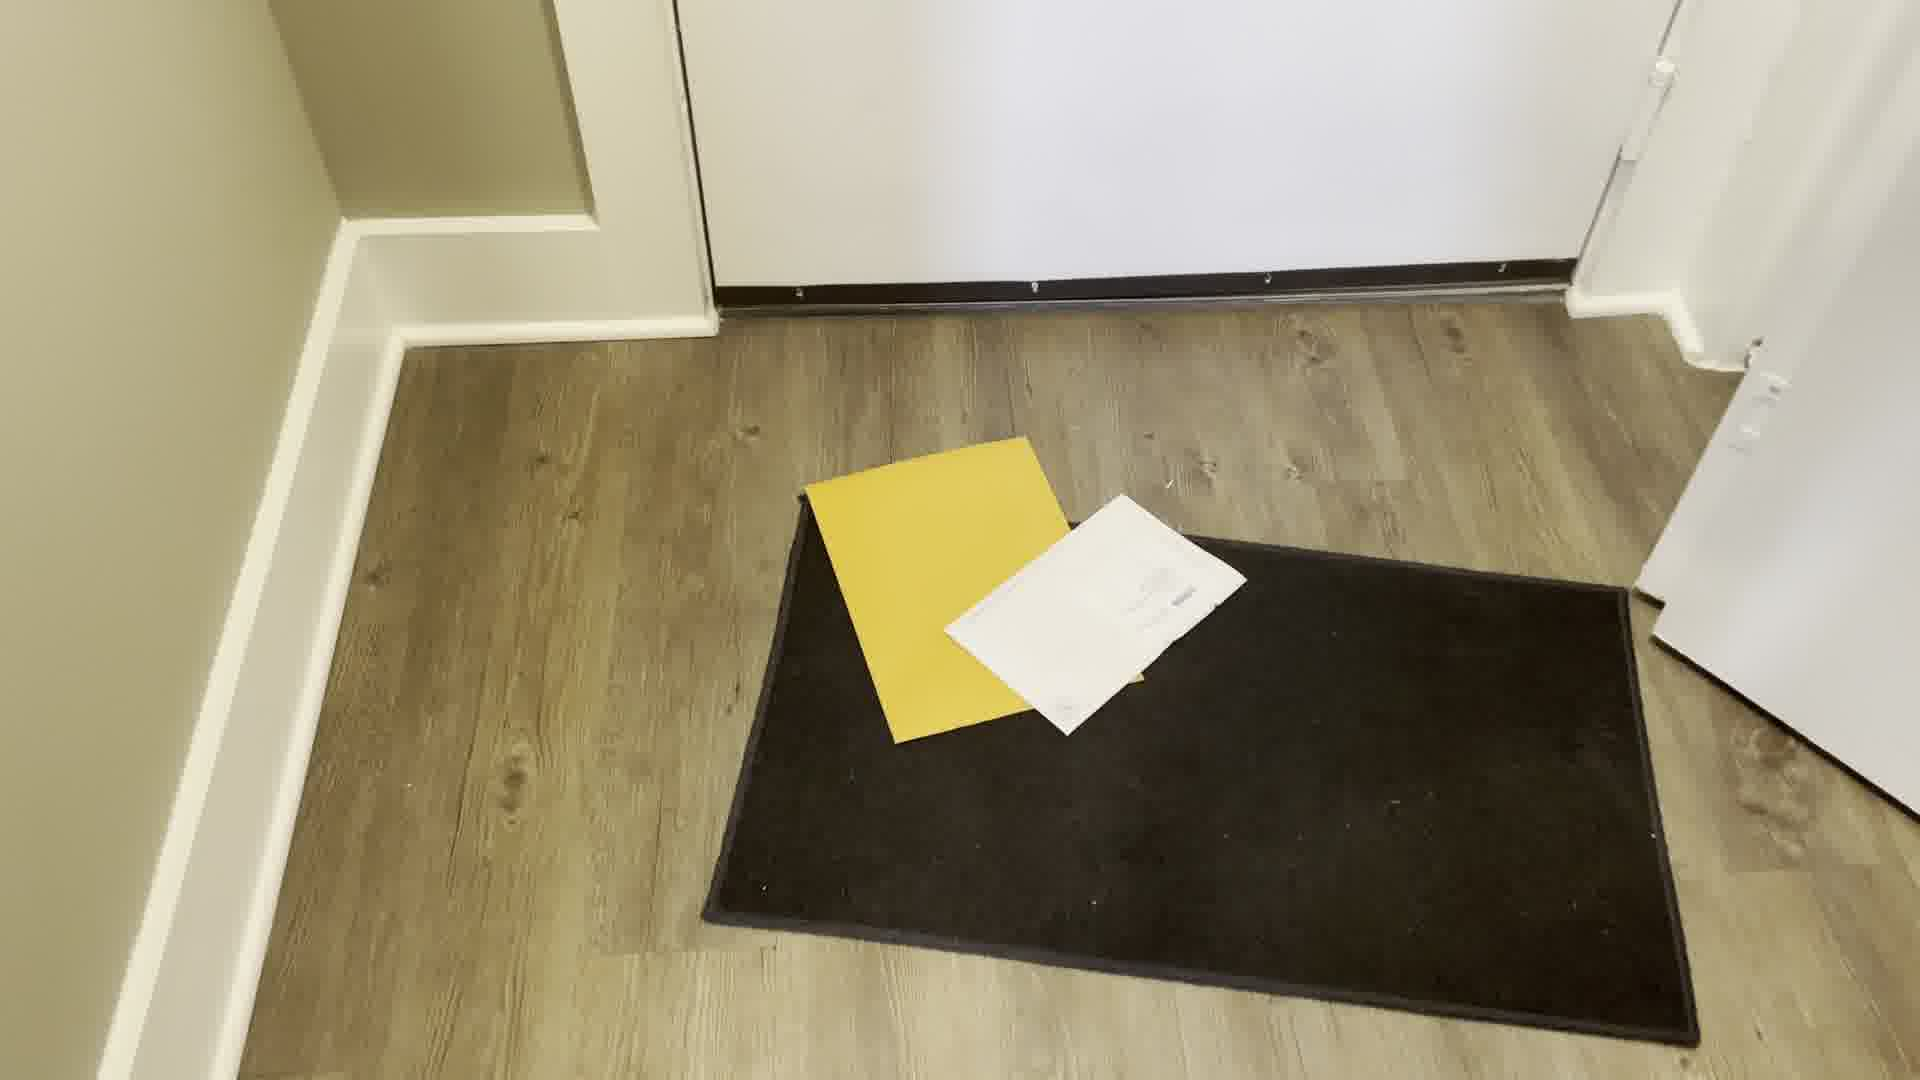envelope: (796, 434, 1056, 742), (940, 496, 1247, 748)
